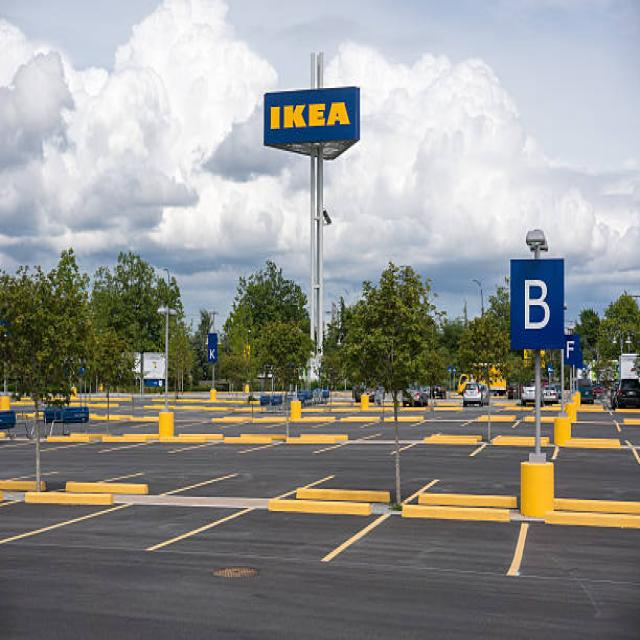libre: (7, 354, 411, 569), (421, 407, 640, 582)
ocupado: (514, 354, 564, 410), (459, 362, 489, 415)
